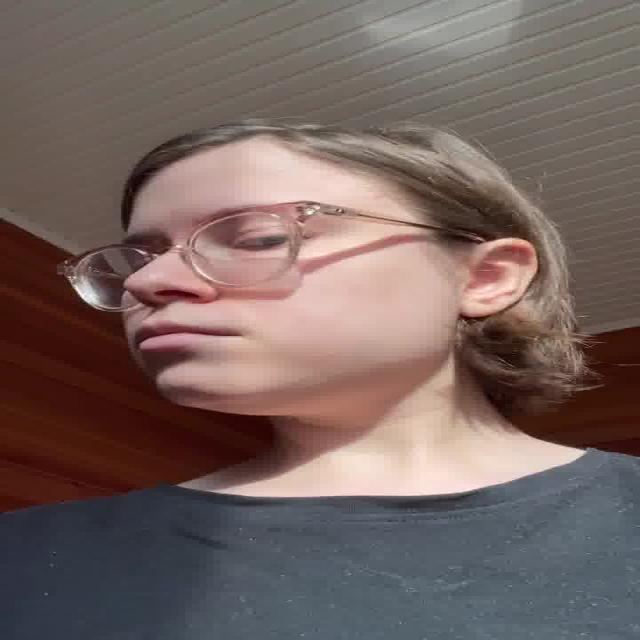earlobe: (460, 238, 536, 319)
